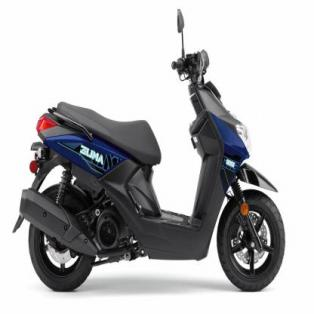Motocicleta: (16, 8, 288, 294)
